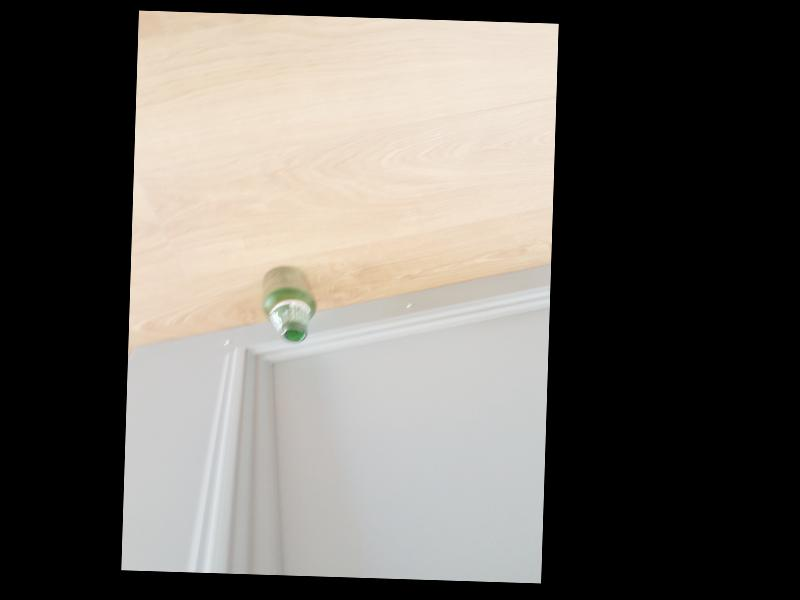Beer: (262, 266, 317, 342)
